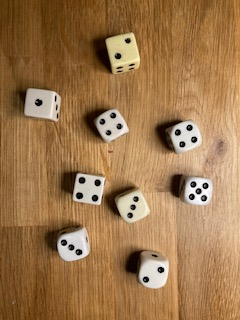five: (176, 172, 215, 207)
four: (91, 106, 132, 145), (161, 119, 204, 154), (68, 169, 107, 207)
one: (21, 86, 63, 125)
three: (113, 186, 153, 225), (56, 223, 93, 263)
two: (103, 30, 142, 76), (134, 248, 172, 291)
